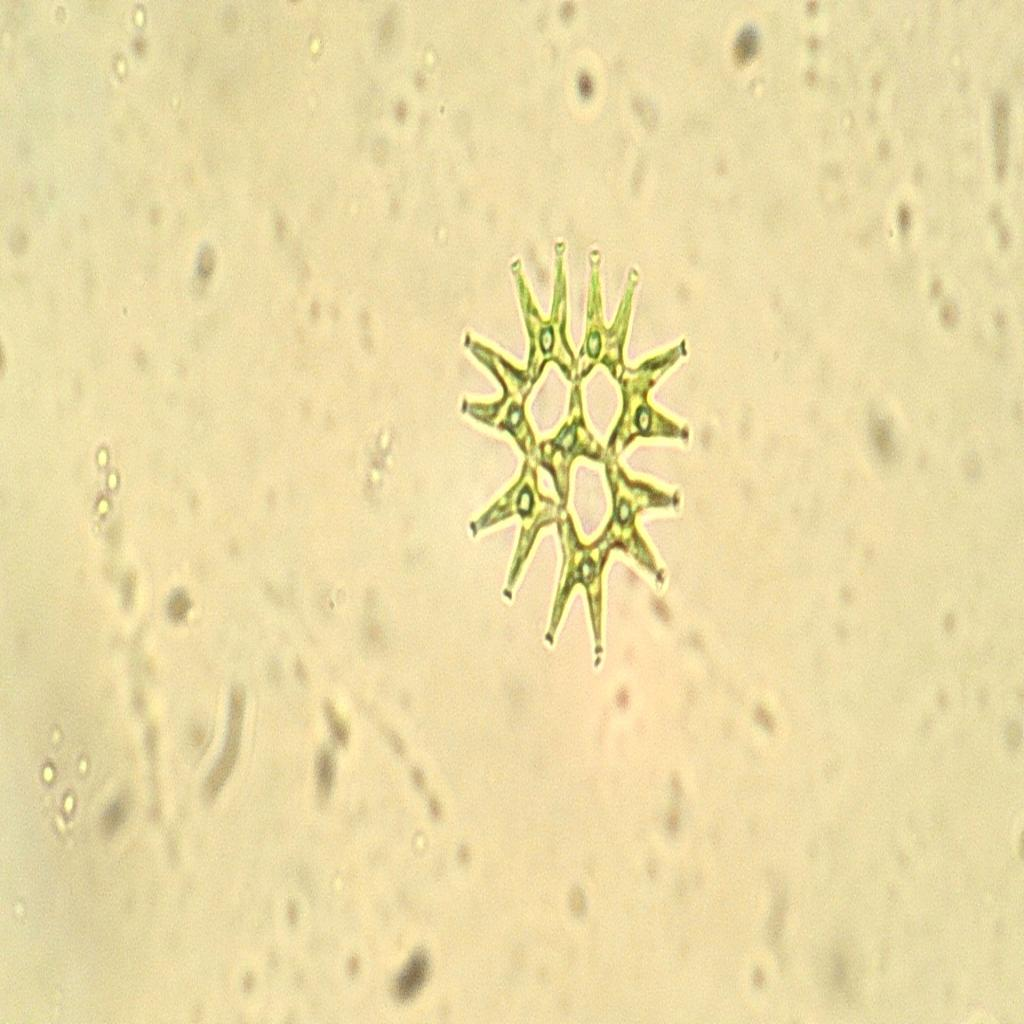Pediastrum_1T: (440, 197, 730, 695)
